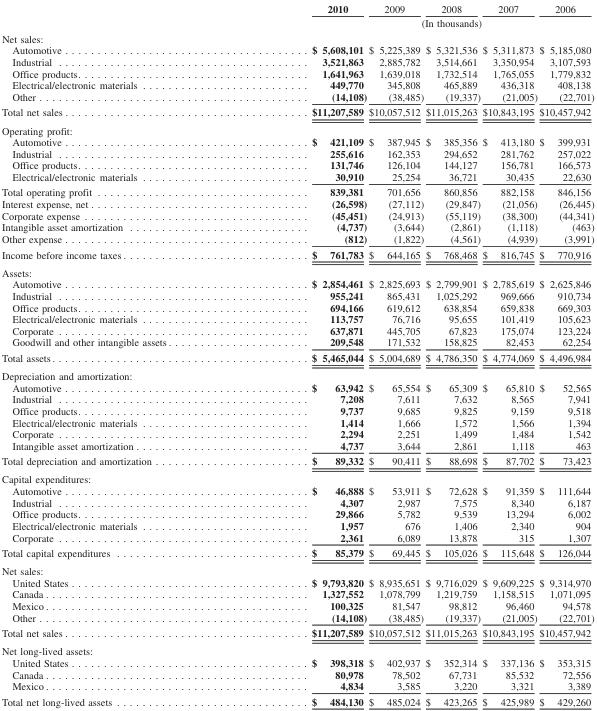table: (0, 1, 593, 708)
table column: (0, 1, 240, 708), (240, 1, 367, 708), (423, 1, 480, 708), (480, 1, 537, 708), (367, 1, 423, 708), (537, 1, 593, 708)
table column header: (0, 1, 593, 30)
table projected row header: (0, 120, 593, 135), (0, 262, 593, 277), (0, 469, 593, 484), (0, 641, 593, 656), (0, 366, 593, 380), (0, 561, 593, 575), (0, 30, 593, 43)
table row: (0, 103, 593, 120), (0, 349, 593, 366), (0, 452, 593, 469), (0, 544, 593, 561), (0, 624, 593, 641), (0, 246, 593, 262), (0, 15, 593, 30), (0, 120, 593, 135), (0, 262, 593, 277), (0, 469, 593, 484), (0, 641, 593, 656), (0, 693, 593, 708), (0, 1, 593, 15), (0, 170, 593, 184), (0, 232, 593, 246), (0, 335, 593, 349), (0, 366, 593, 380), (0, 561, 593, 575), (0, 679, 593, 693), (0, 30, 593, 43), (0, 90, 593, 103), (0, 184, 593, 197), (0, 439, 593, 452), (0, 531, 593, 544), (0, 611, 593, 624), (0, 43, 593, 55), (0, 55, 593, 67), (0, 78, 593, 90), (0, 135, 593, 147), (0, 158, 593, 170), (0, 197, 593, 209), (0, 220, 593, 232), (0, 277, 593, 289), (0, 289, 593, 301), (0, 312, 593, 324), (0, 380, 593, 392), (0, 392, 593, 404), (0, 404, 593, 416), (0, 427, 593, 439), (0, 484, 593, 496), (0, 507, 593, 519), (0, 519, 593, 531), (0, 575, 593, 587), (0, 587, 593, 599), (0, 599, 593, 611), (0, 656, 593, 668), (0, 67, 593, 78), (0, 147, 593, 158), (0, 209, 593, 220), (0, 301, 593, 312), (0, 324, 593, 335), (0, 416, 593, 427), (0, 496, 593, 507), (0, 668, 593, 679)
table spanning cell: (240, 15, 593, 30)
